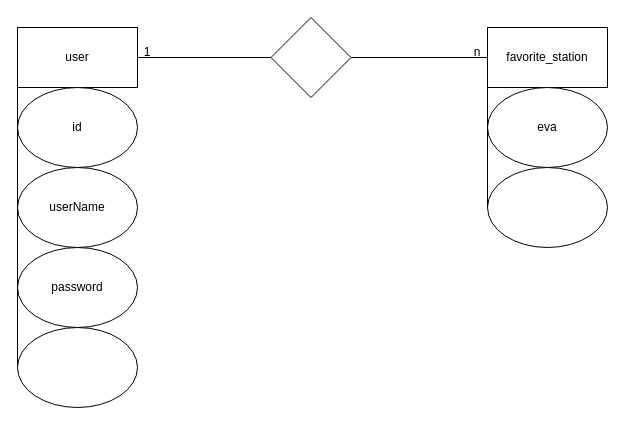
This 625x425 diagram has some shape labels left out. The shapes that lost their labels are listed below. From the top down, each one's centre as x and y in pixels, then its label:
At point 310,57: "besitzt".
At point 547,207: "name".
At point 77,367: "favorite_stations".
